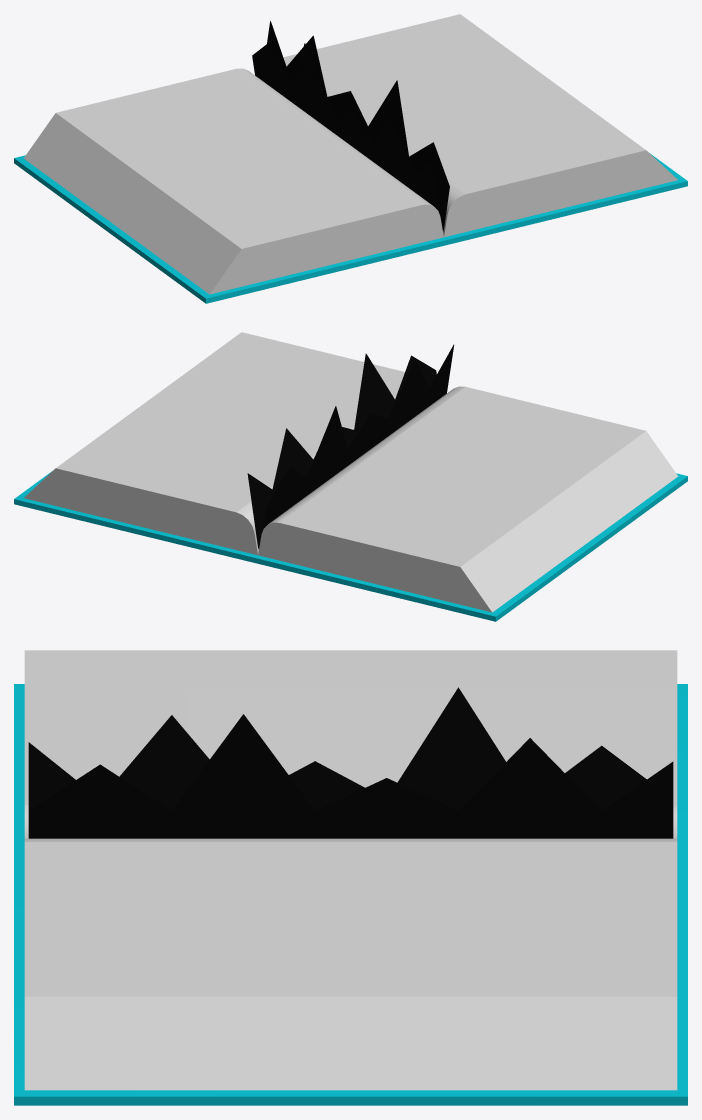
Rendered from Book_Open2_Neon_Blue.fbx.
3 views of the same model, one above another, from view 1: azimuth 30°, elevation 25°; view 2: azimuth 150°, elevation 25°; view 3: azimuth 270°, elevation 25° (orthographic). The views are drawn at different scales.
Parts seen in each view (by area): view 1: Book_Open2_Neon_Blue; view 2: Book_Open2_Neon_Blue; view 3: Book_Open2_Neon_Blue.
Part boxes in pixels (<box>): Book_Open2_Neon_Blue: <box>14,14,687,303</box>; Book_Open2_Neon_Blue: <box>14,332,687,621</box>; Book_Open2_Neon_Blue: <box>14,650,687,1105</box>.
Bounding box in the file's own units: 39.42 × 8.85 × 27.21.
